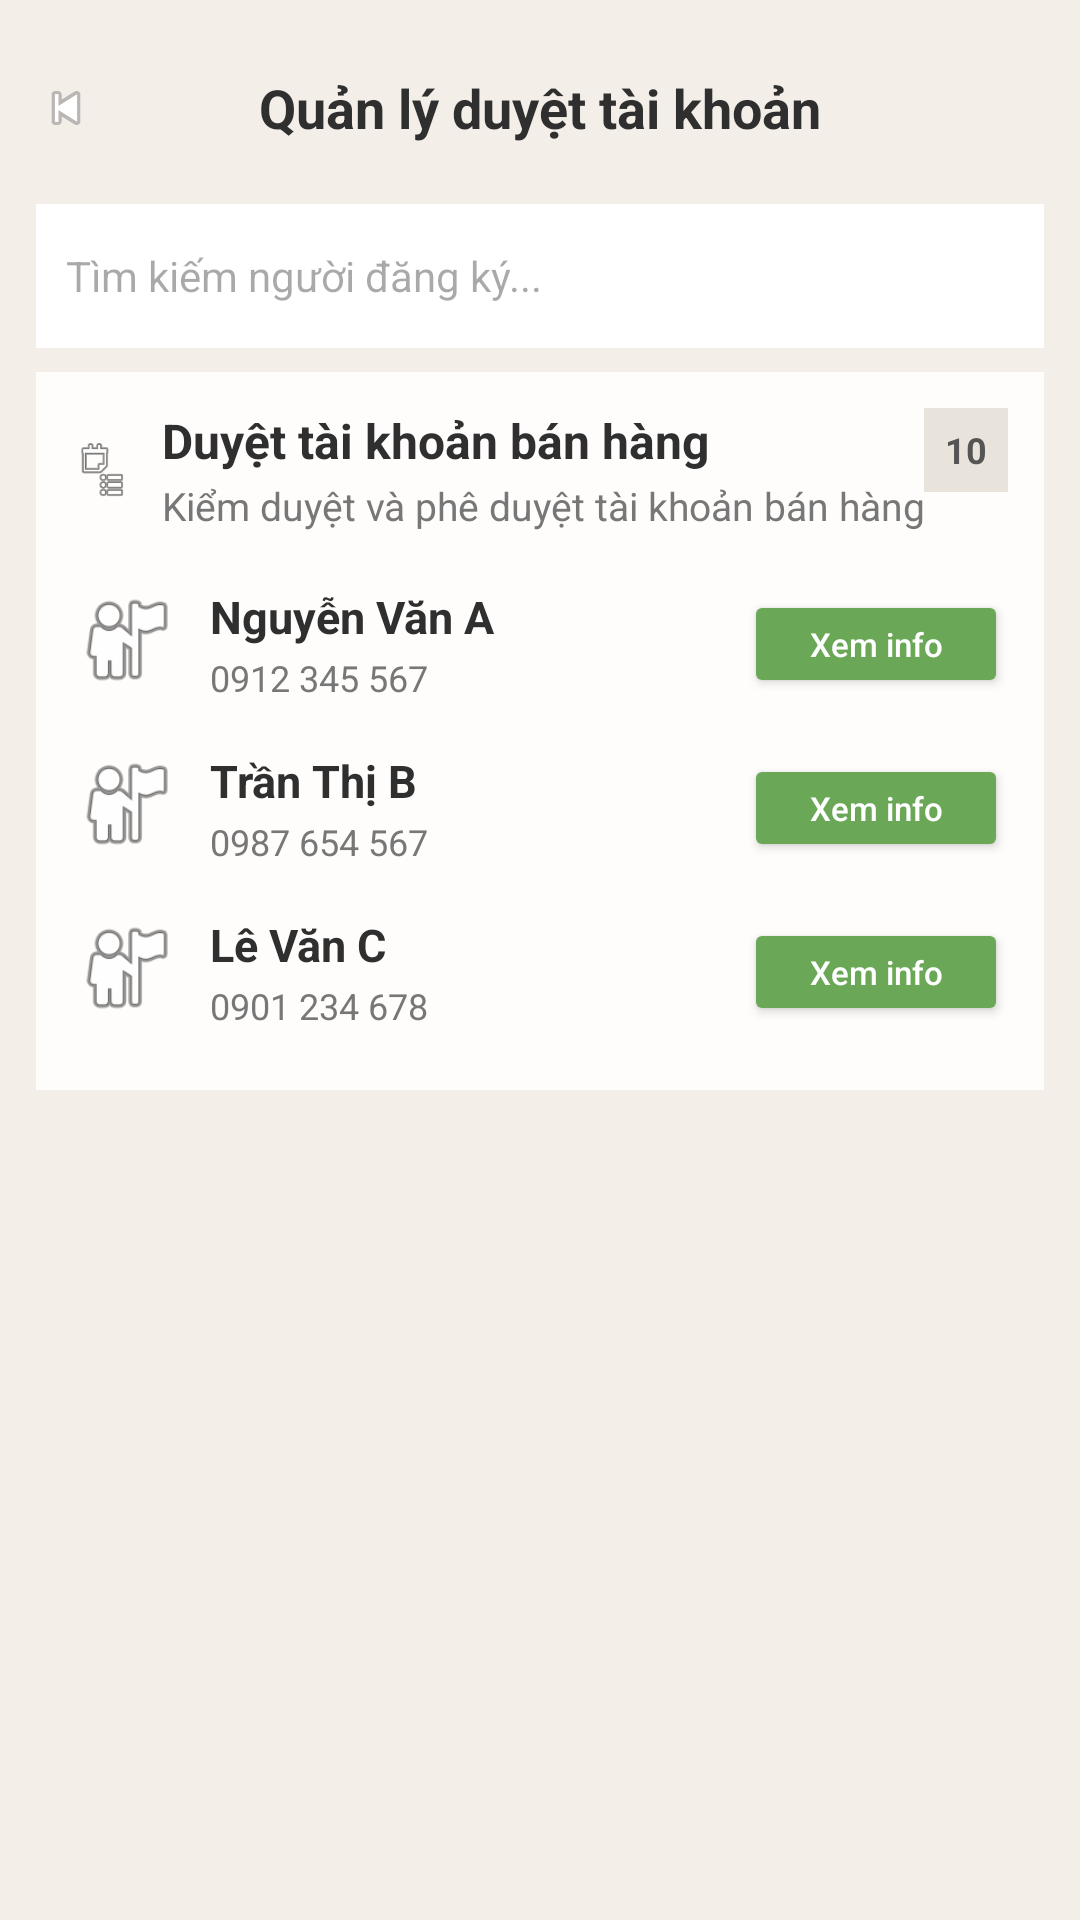

Point at icon controls on the screen. Image size 1080px x 1920px, points as (x,y).
agenda: (102,469)
previous: (66,108)
